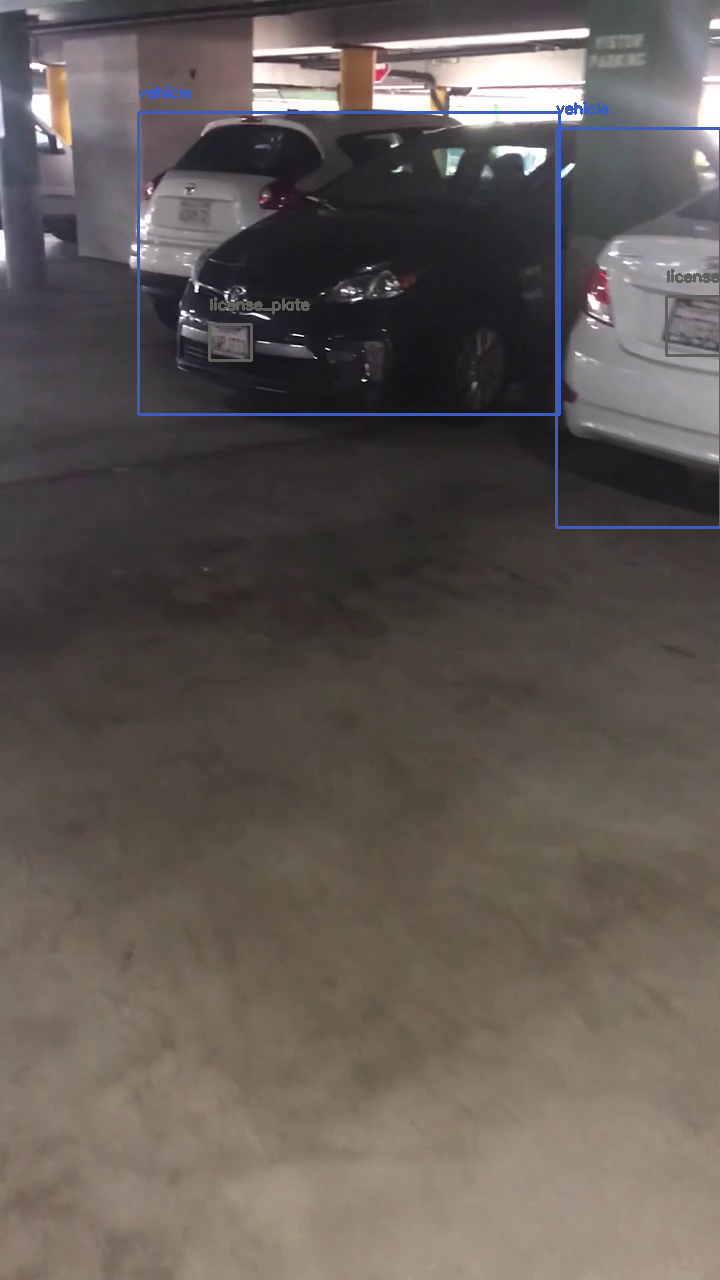license_plate: (666, 296, 720, 355), (209, 324, 251, 360)
vehicle: (138, 112, 559, 414), (556, 128, 720, 527)
